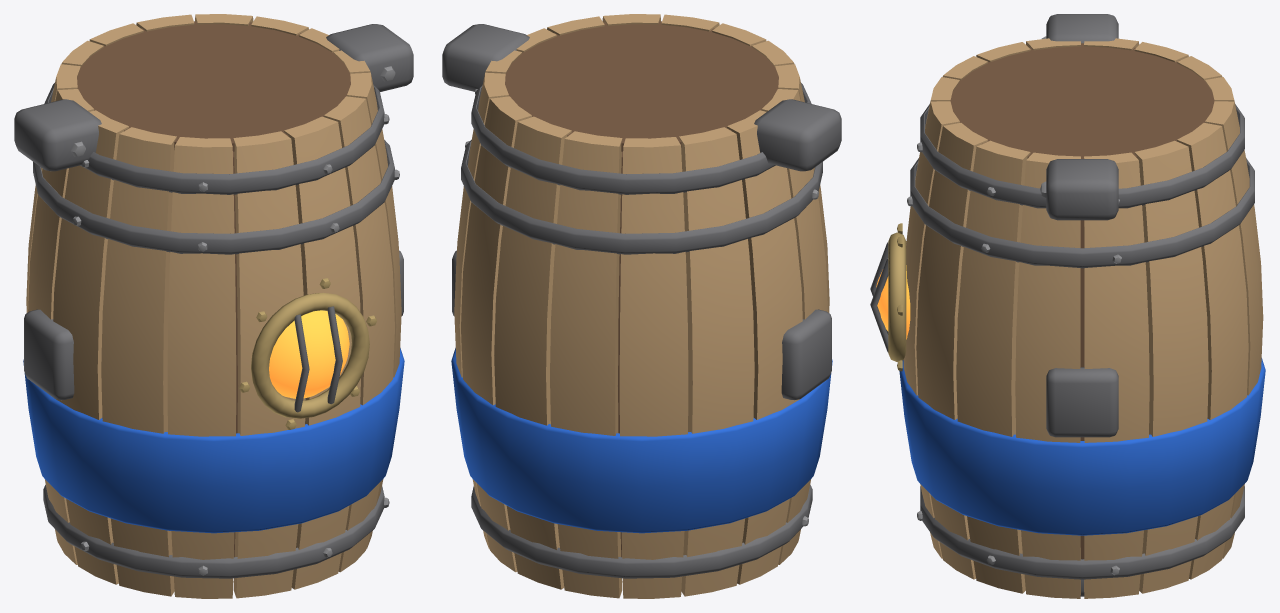
The model's file is Kit_Core_Barrel.glb.
3 views of the same model, side by side, from view 1: azimuth 30°, elevation 25°; view 2: azimuth 150°, elevation 25°; view 3: azimuth 270°, elevation 25° (orthographic). The views are drawn at different scales.
Parts seen in each view (by area): view 1: Kit_Core_Barrel; view 2: Kit_Core_Barrel; view 3: Kit_Core_Barrel.
Boxes of the visible parts, left/top/right/bottom form: Kit_Core_Barrel: left=14, top=14, right=413, bottom=598; Kit_Core_Barrel: left=442, top=14, right=841, bottom=598; Kit_Core_Barrel: left=870, top=14, right=1265, bottom=598.
Bounding box in the file's own units: 0.455 × 0.555 × 0.4376.
